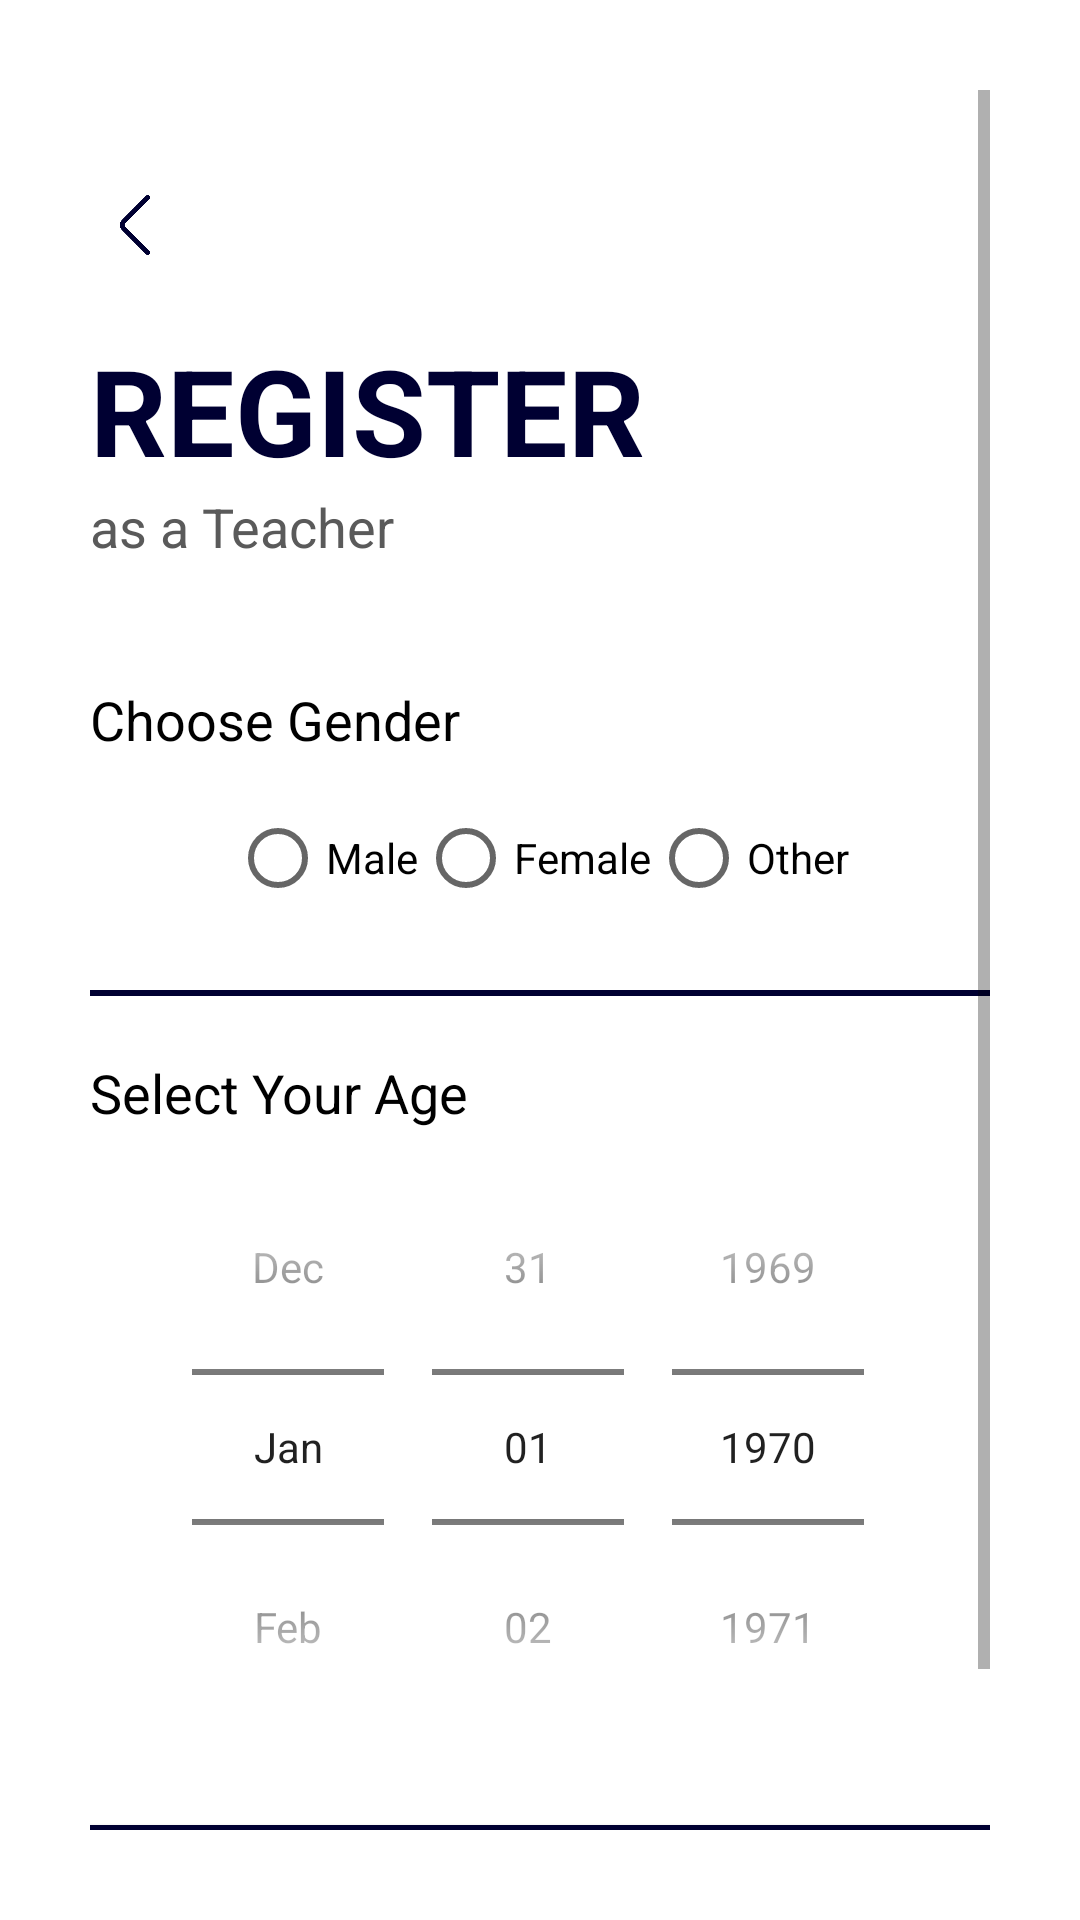

Icons on this 1080px×1920px Android screen, each with its box as (x1, y1, x2, y2):
leftarrow: (120, 195, 150, 255)
